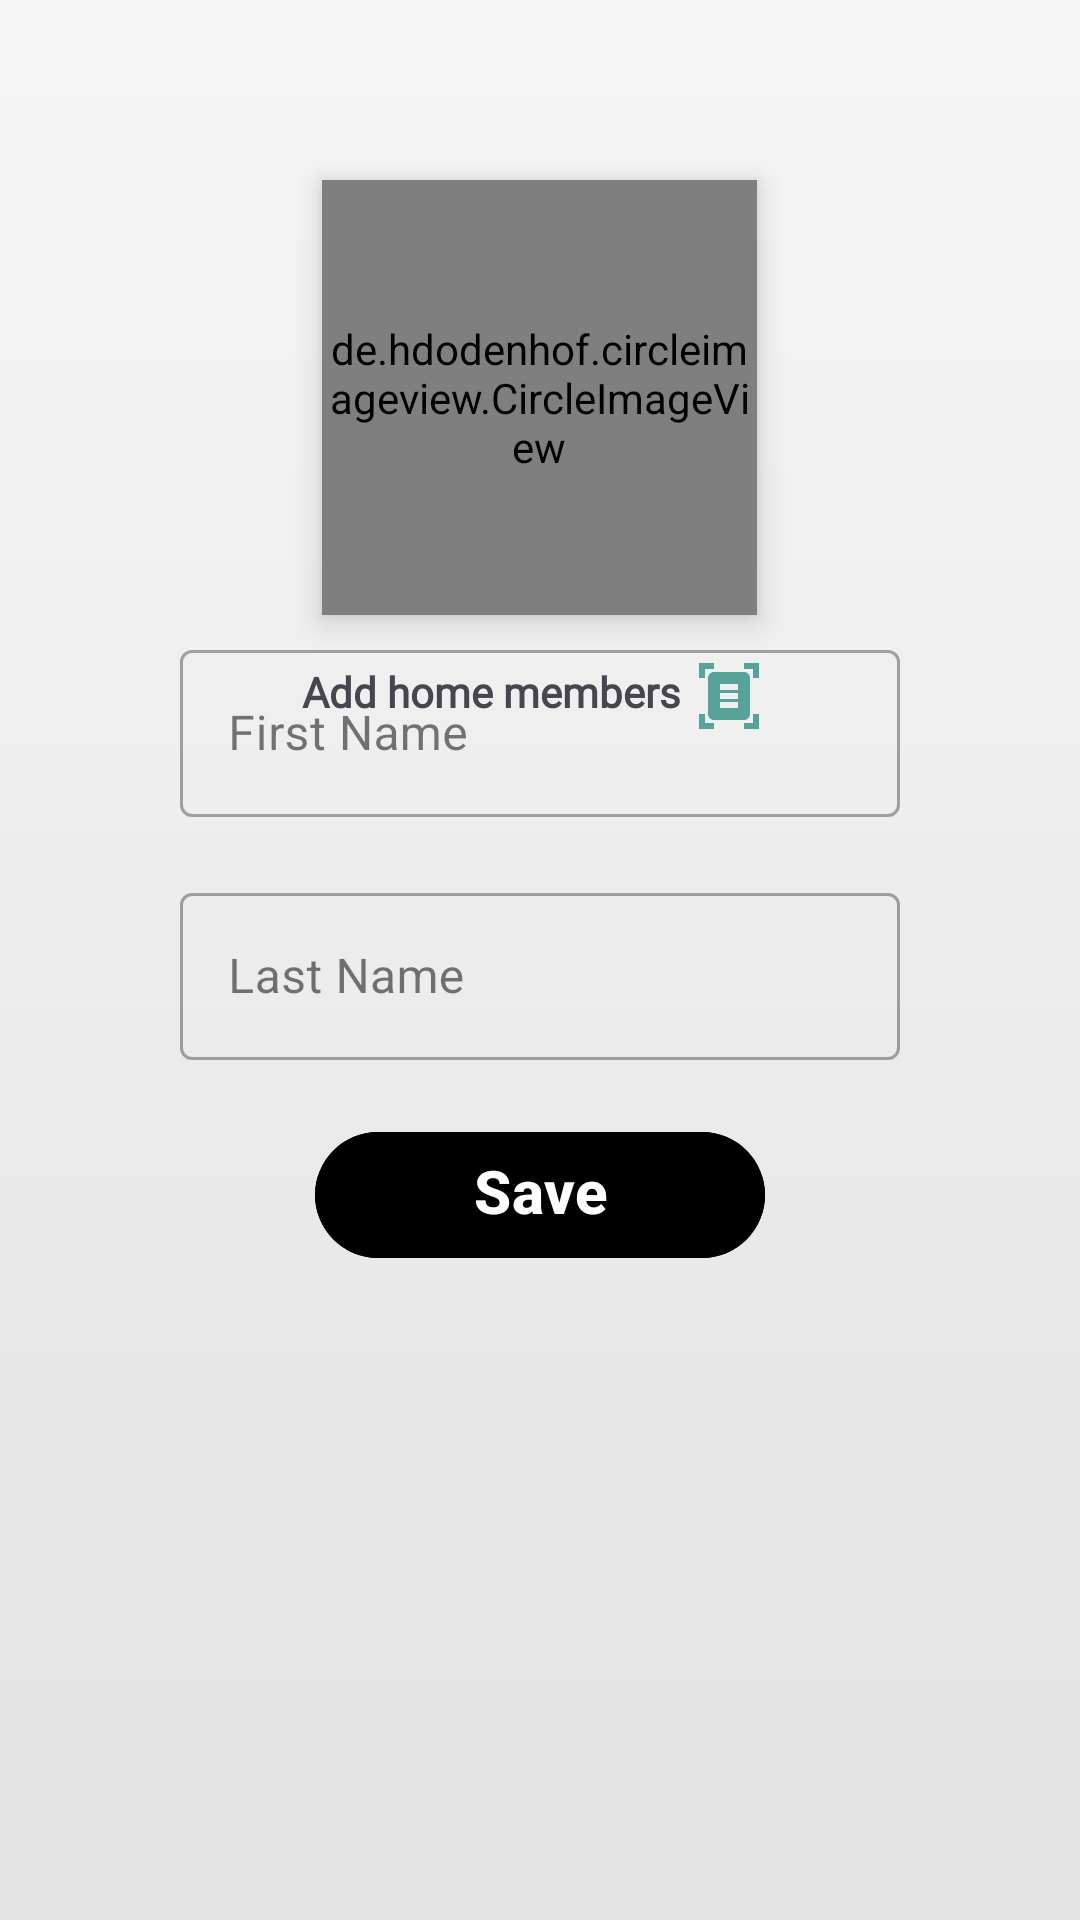

Icon bounding boxes for this 1080×1920 phone screenshot, format box(x1, y1, x2, y2):
document scanner: box(699, 663, 759, 729)
